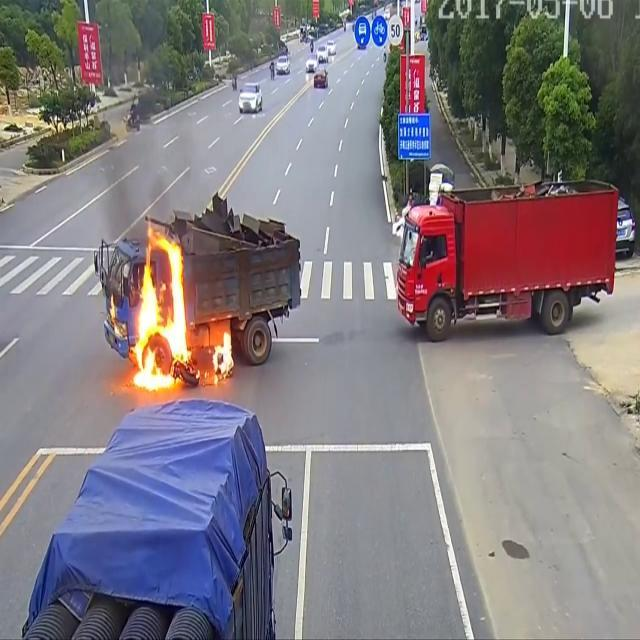Fire: (130, 222, 192, 390), (209, 318, 234, 386)
